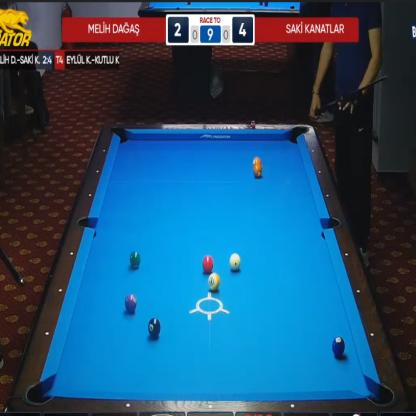Ball: (332, 336, 345, 357), (148, 317, 160, 337), (125, 294, 136, 314), (229, 253, 241, 271), (202, 256, 214, 274), (209, 272, 220, 290), (130, 250, 140, 269), (254, 164, 262, 178), (252, 156, 261, 166)
